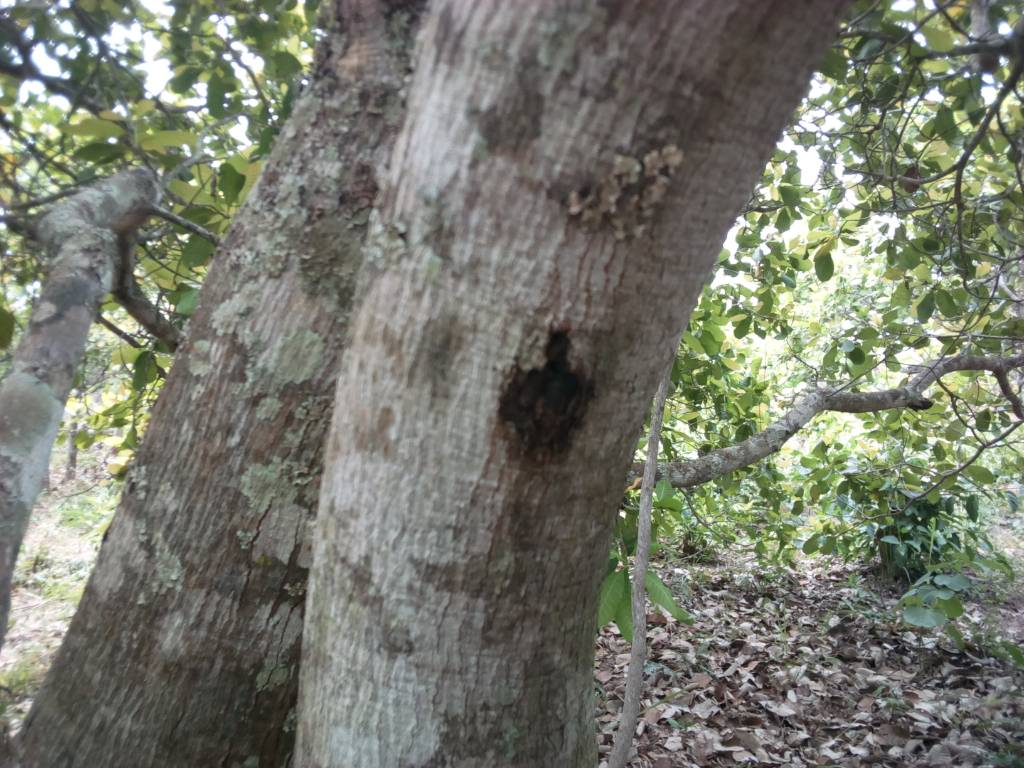Mecocorynus longiceps: (460, 316, 624, 479)
